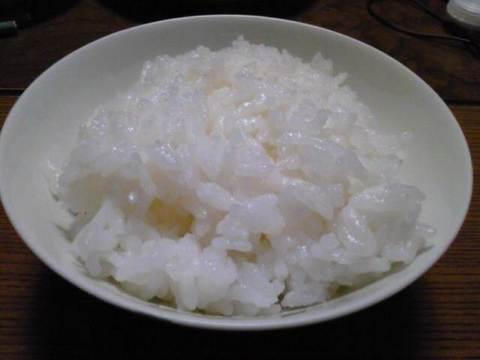rice: (60, 42, 431, 325)
